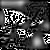node: (28, 33, 45, 49), (1, 1, 28, 8), (40, 21, 50, 30), (20, 21, 29, 30)
